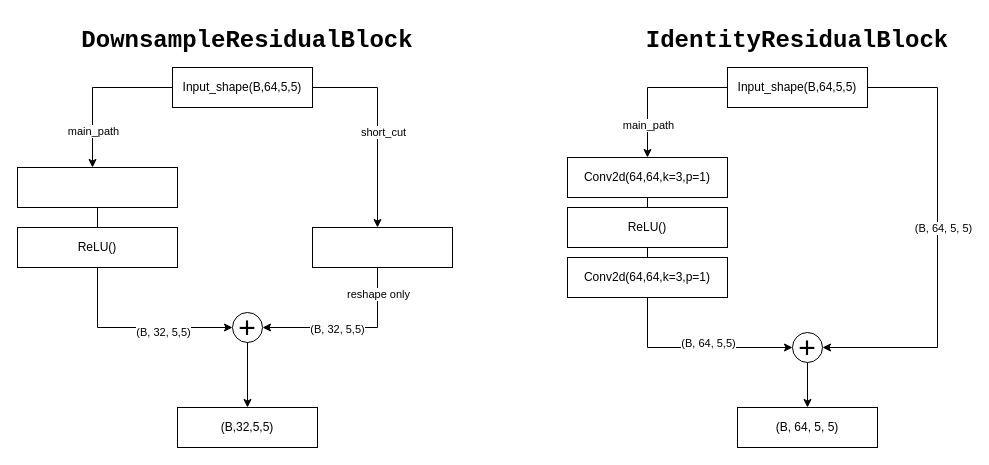
The diagram is 989 pixels wide and 465 high, and some of its shapes have lost their labels. The centre of each missing label's shape, as x and y in pixels:
Conv2d(64, 32,s=s,p=1): the point at 382,247
Conv2d(64,32,k=3,s=s,p=1): the point at 97,187
